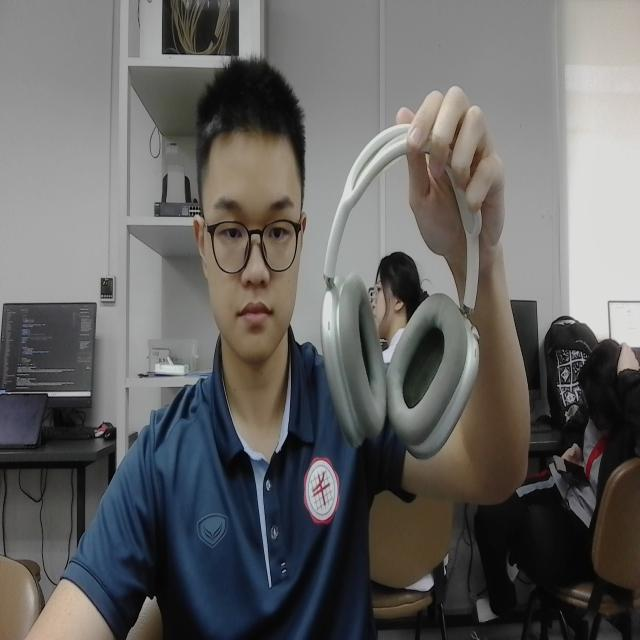airpods max: (314, 97, 483, 466)
